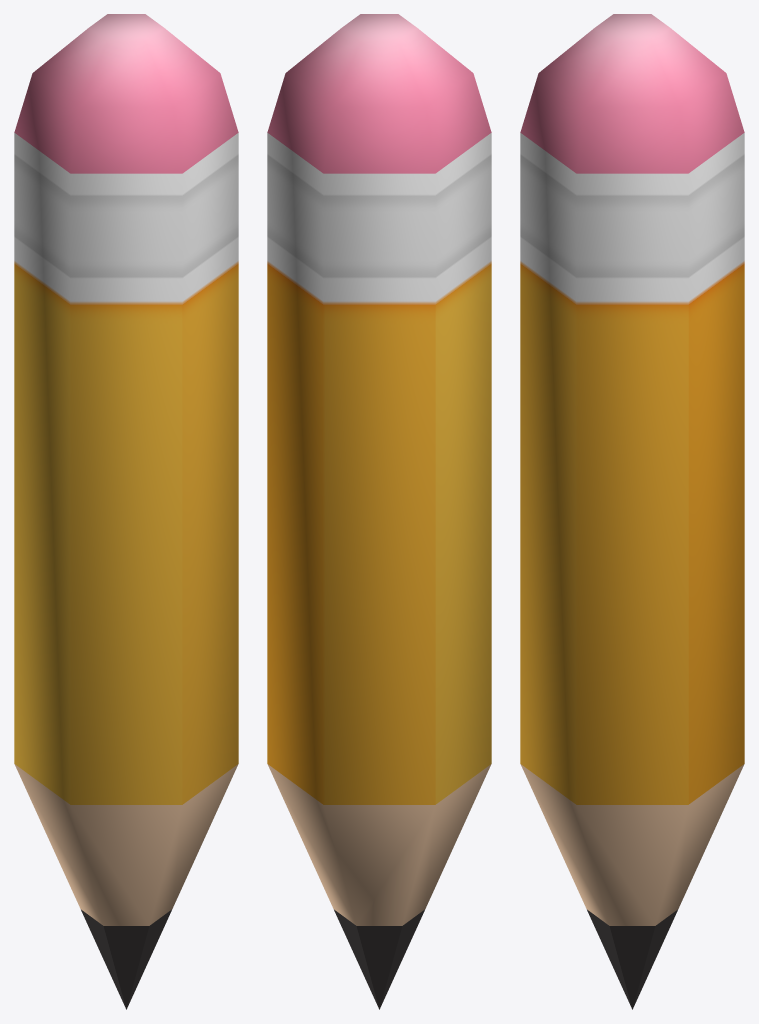
The model's file is ENV2010102.fbx.
The picture shows the model from 3 angles, left to right: view 1: azimuth 30°, elevation 25°; view 2: azimuth 150°, elevation 25°; view 3: azimuth 270°, elevation 25°; orthographic projection.
Visible parts, largest first — view 1: smENV2010102; view 2: smENV2010102; view 3: smENV2010102.
Boxes of the visible parts, x1,y1,x2,y2 form: smENV2010102: (14,14,238,1009); smENV2010102: (267,14,491,1009); smENV2010102: (520,14,744,1009).
Size of the model in its own units: 2.55 by 14.21 by 2.94.
1 material, 1 textured.
